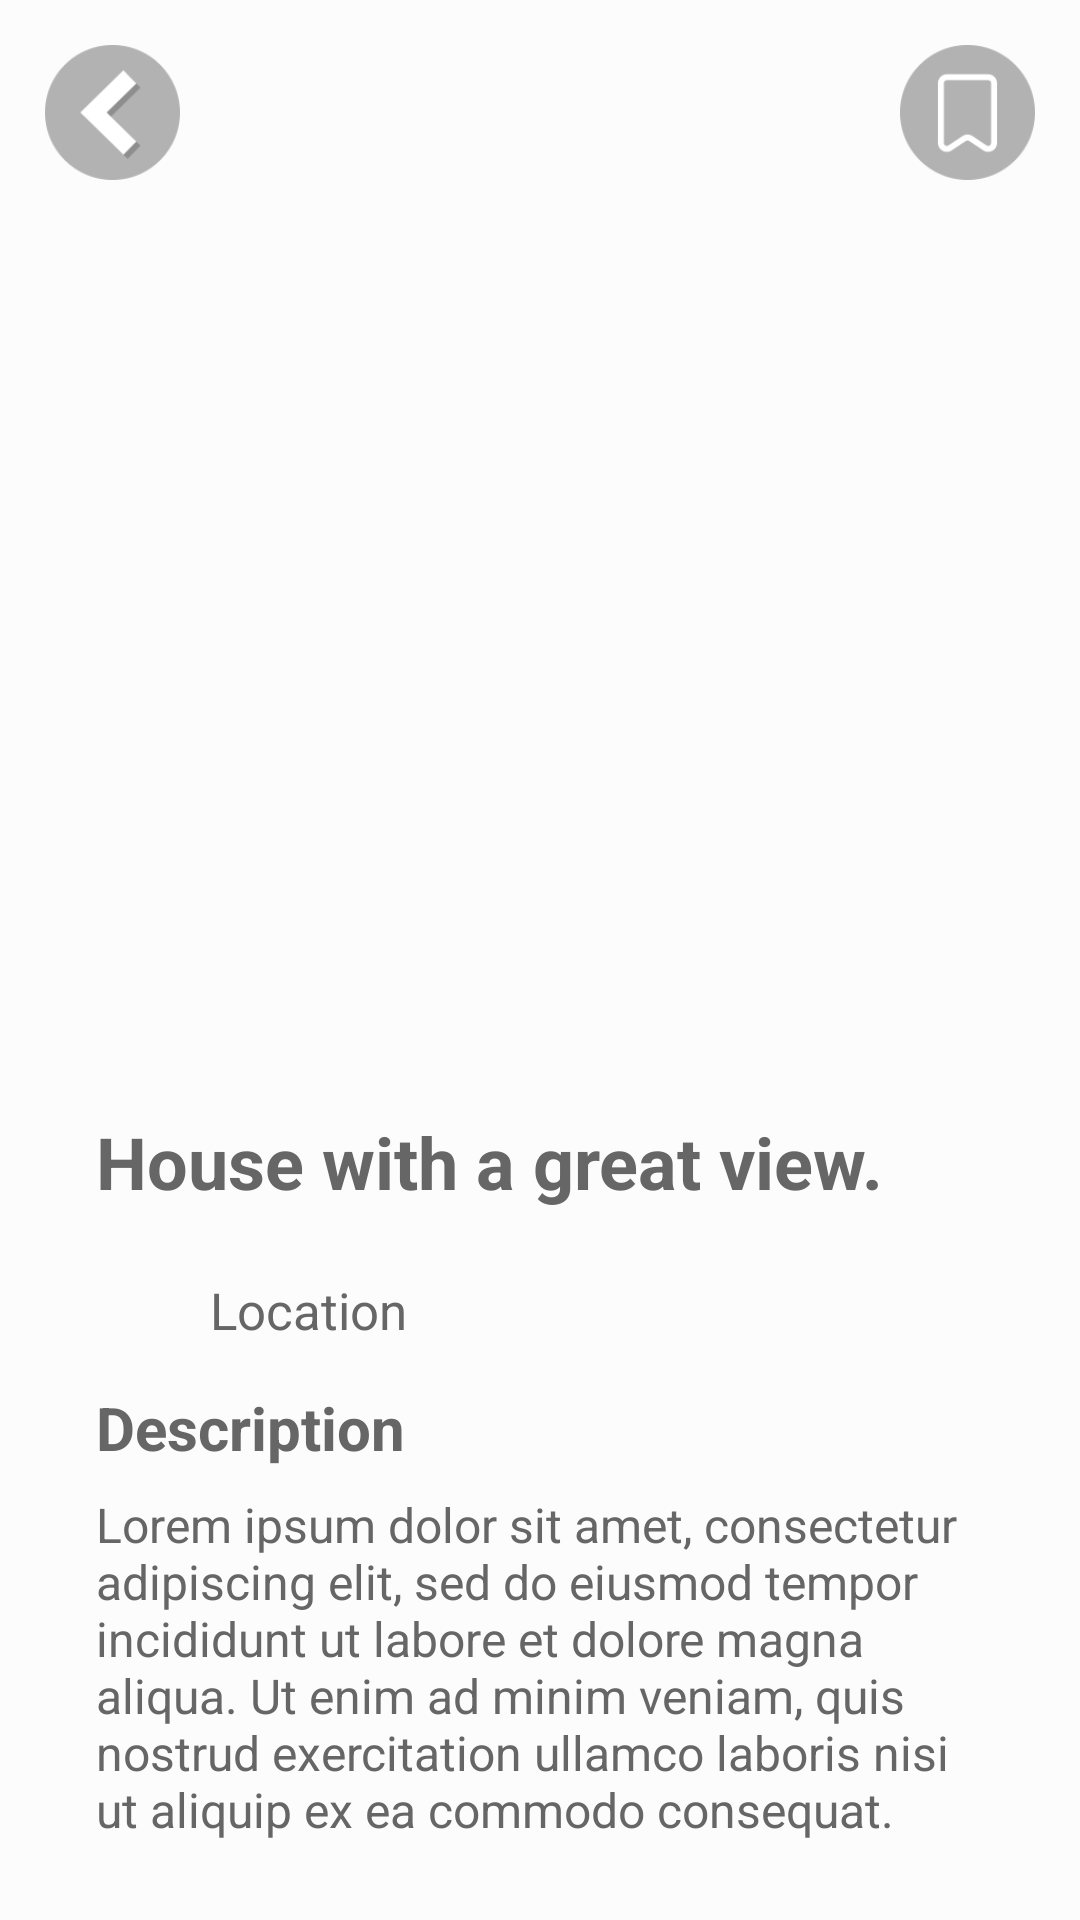

Screen size 1080×1920. Icon name, then its center in pixels as point (x, y):
bookmark blank: point (967, 112)
leftarrow: point (112, 112)
